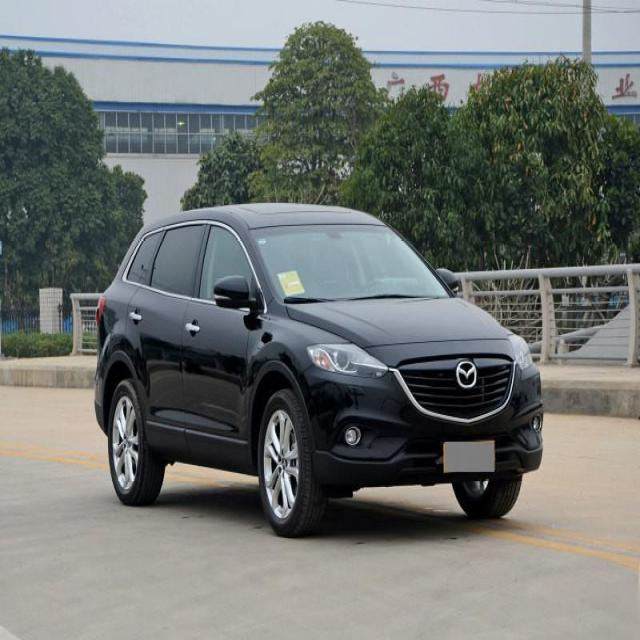back_right_side_light: (94, 293, 108, 325)
door: (142, 223, 206, 438)
front_bumper: (289, 363, 545, 488)
front_glass: (248, 222, 450, 300)
front_left_side_light: (506, 332, 536, 373)
front_left_side_mirror: (436, 266, 461, 296)
front_right_side_door: (178, 213, 254, 473)
front_right_side_light: (306, 340, 390, 380)
front_right_side_mirror: (213, 274, 257, 314)
wheel: (256, 389, 325, 536), (107, 380, 166, 504), (452, 478, 524, 518)
